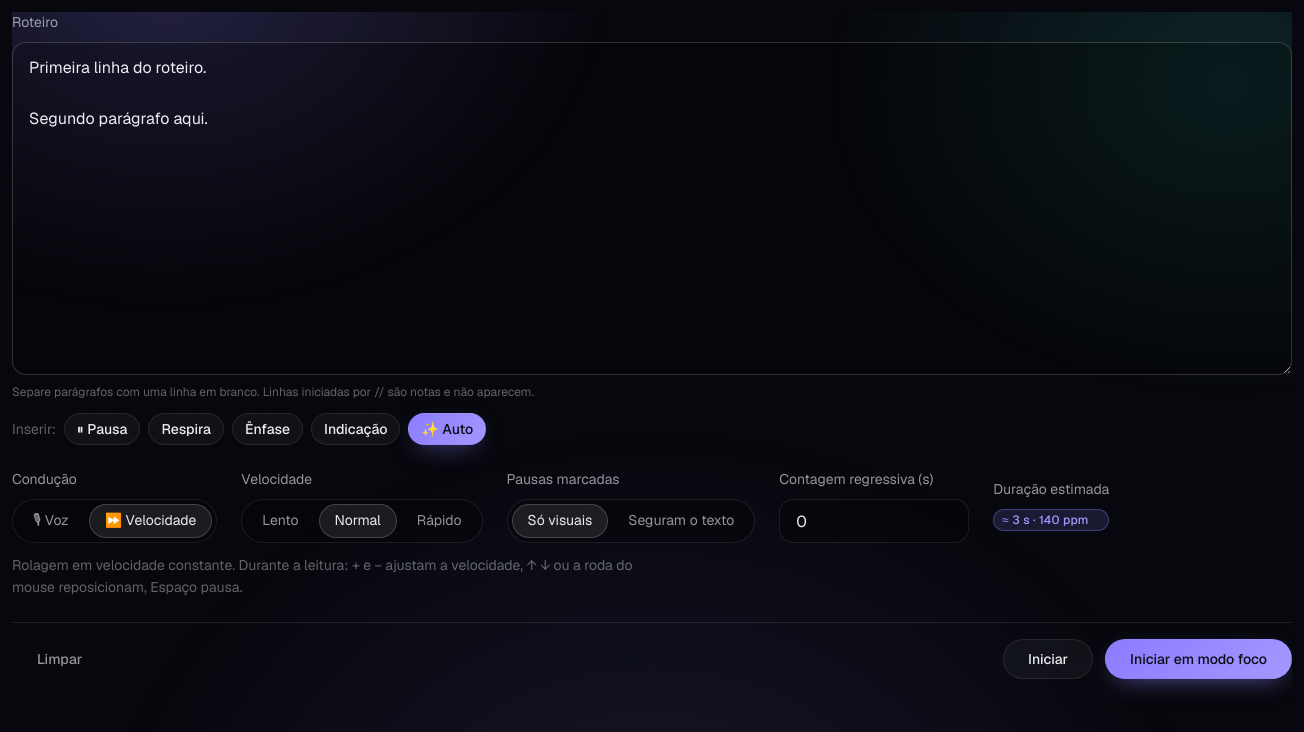
Scenario: <Teleprompter /> — apresentação por velocidade › Espaço pausa e continua; setas reposicionam; + acelera; Esc sai
The image size is (1304, 732).
Click the button "Iniciar" at point(1048, 660), box [1003,640,1093,680]
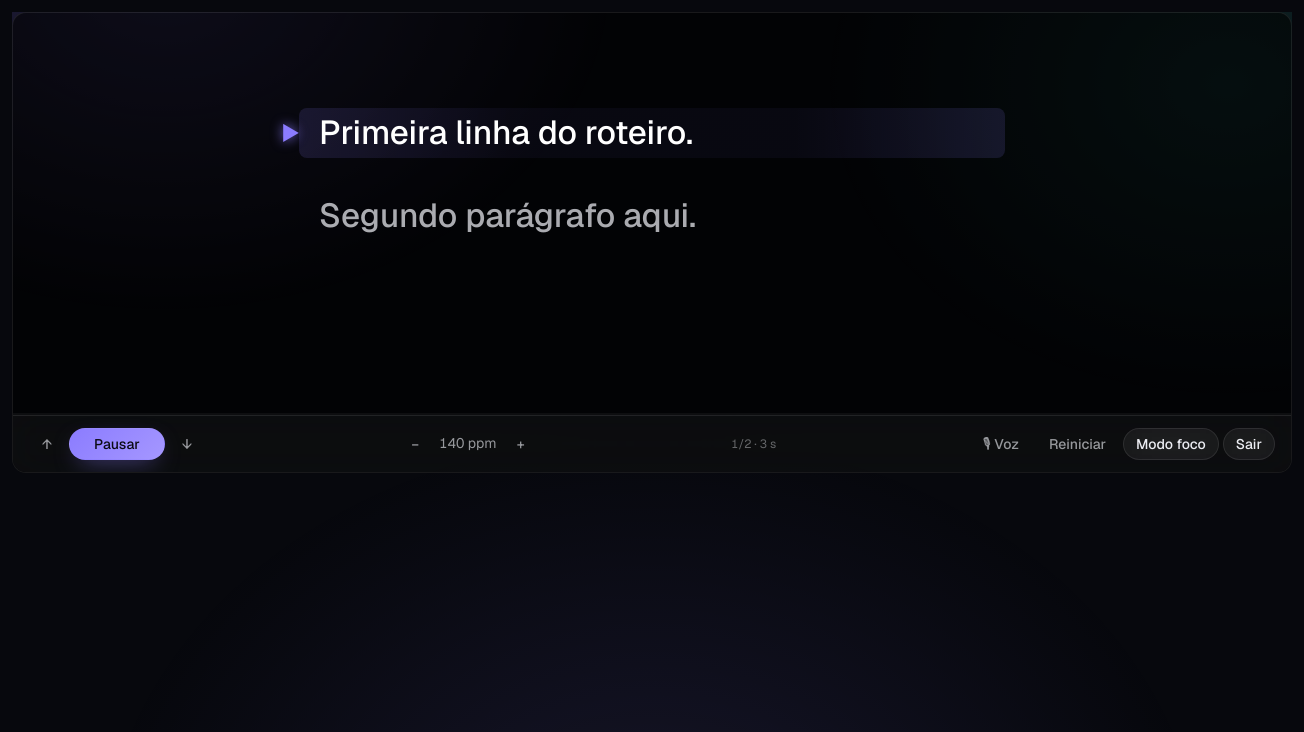
Now the text "Primeira linha do roteiro." is shown, box [319,111,693,154]
Press Space
Wait 5000 ms
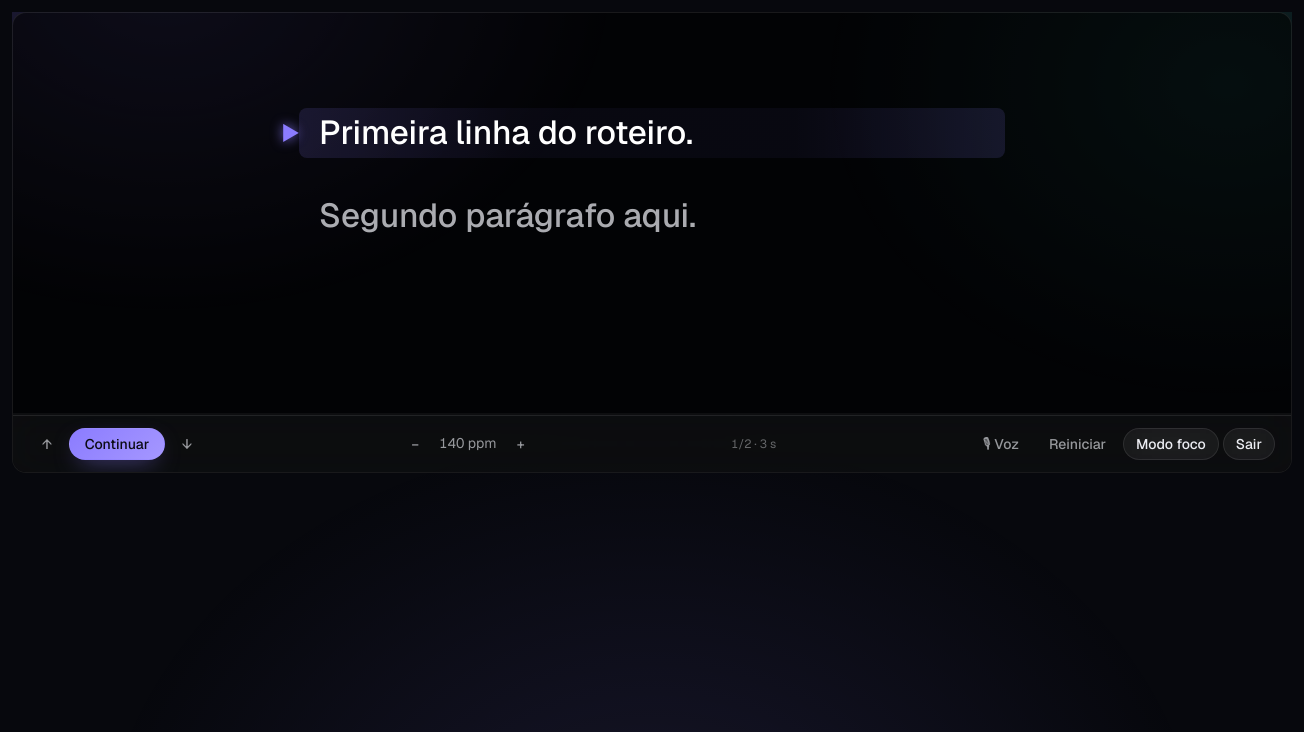
Now the text "Primeira linha do roteiro." is shown, box [319,111,693,154]
Now the button "Continuar" is shown, box [69,428,165,460]
Press ArrowDown
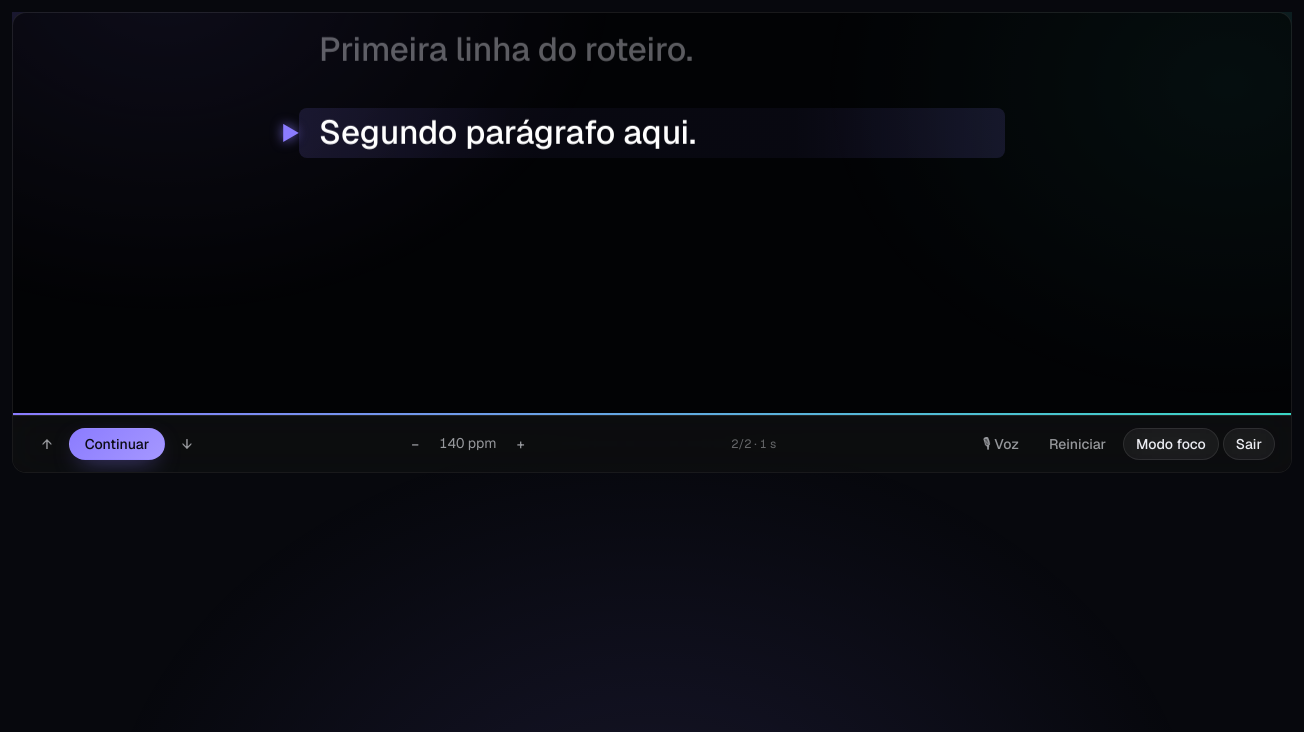
Now the text "Segundo parágrafo aqui." is shown, box [319,111,696,154]
Press ArrowUp
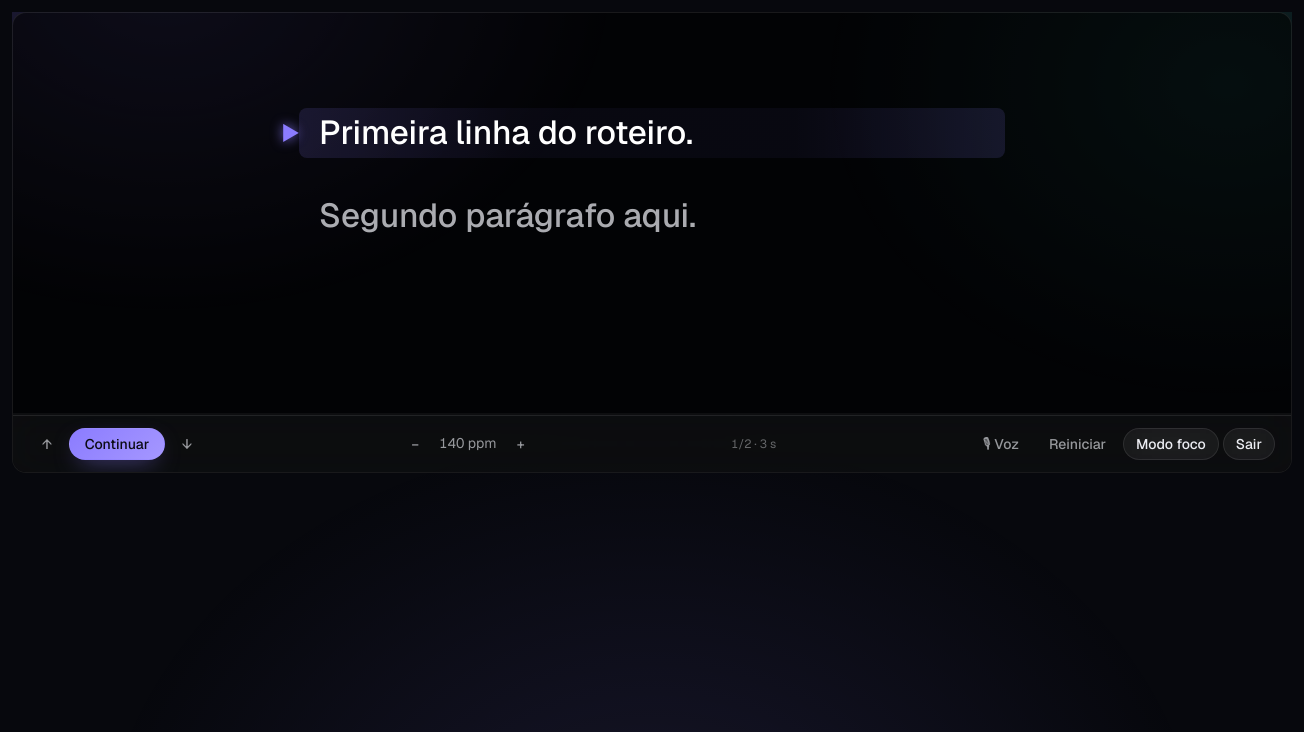
Now the text "Primeira linha do roteiro." is shown, box [319,111,693,154]
Press +
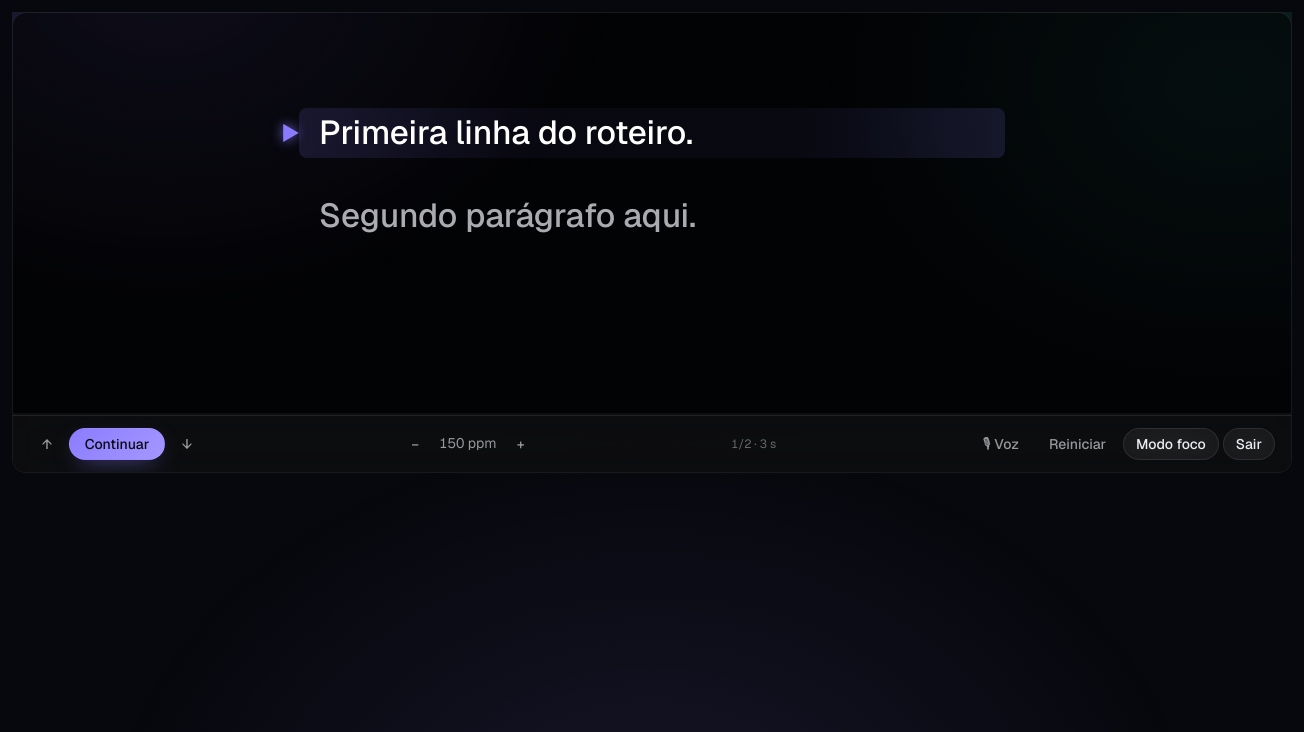
Now the text "150 ppm" is shown, box [436,433,500,455]
Press Escape
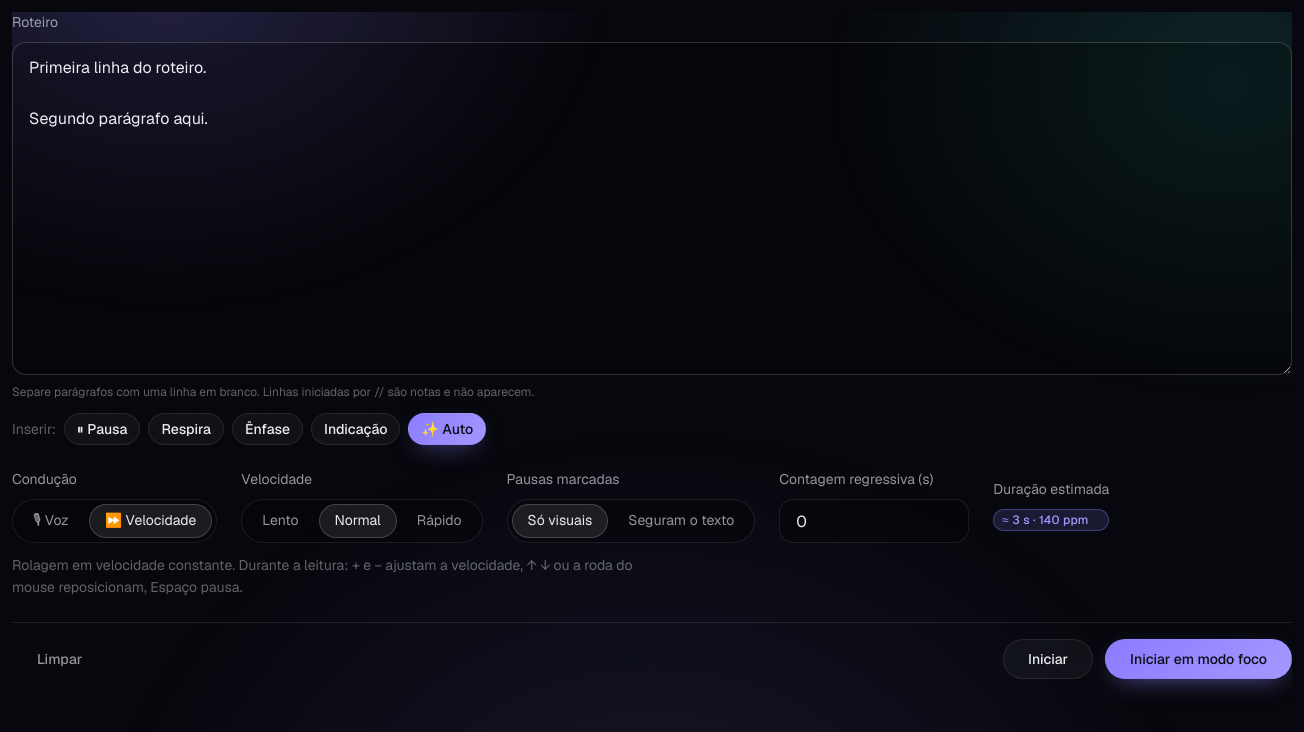
Now the text box labelled "Roteiro" is shown, box [12,42,1292,375]
